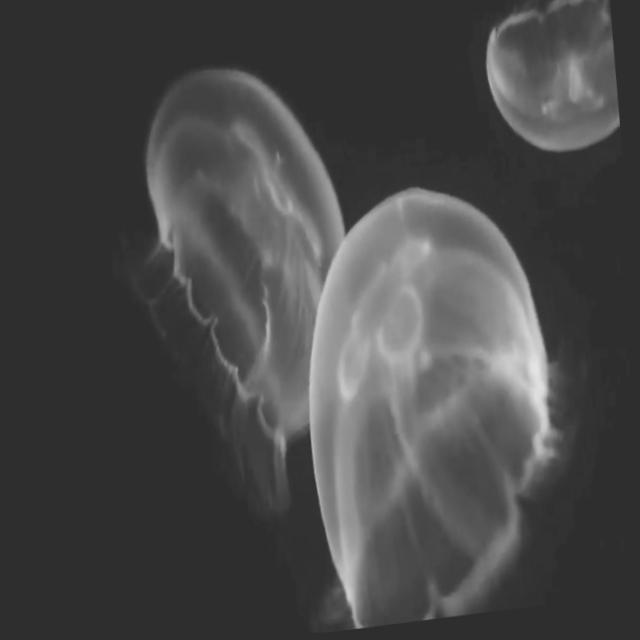Moon-jellyfish: (307, 199, 551, 630), (131, 58, 348, 442), (476, 0, 620, 152)
